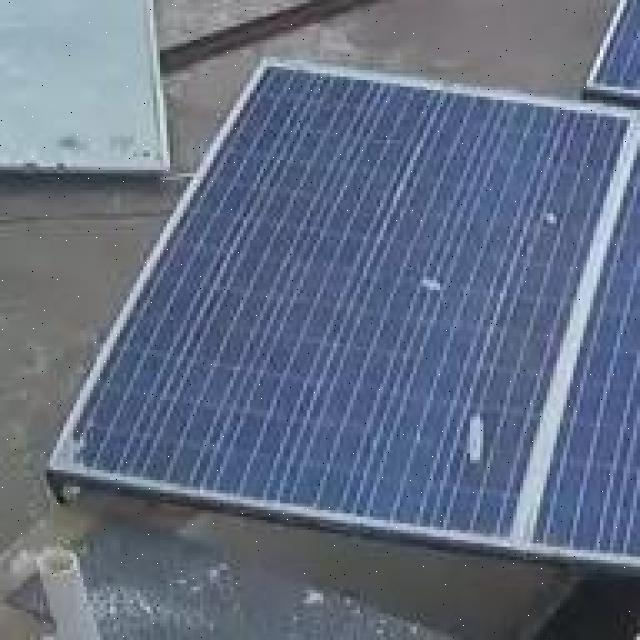Anomaly Solar Panel: (56, 0, 628, 588)
Snow: (405, 266, 454, 304), (463, 412, 489, 465)
